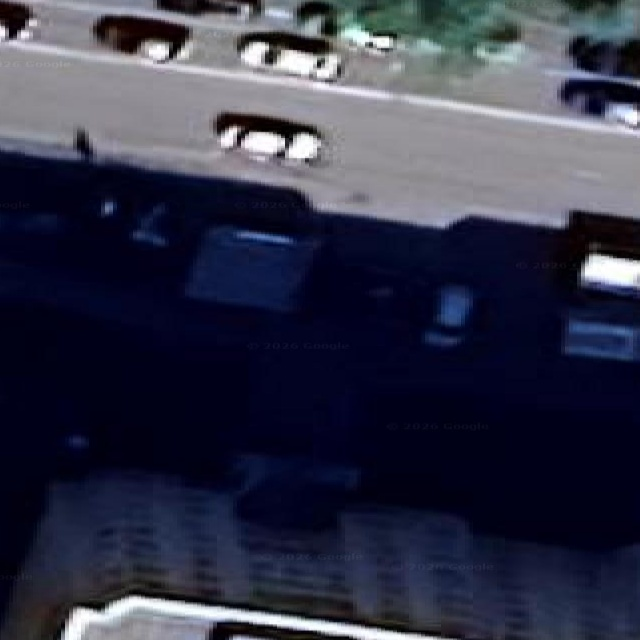car: (62, 167, 196, 278), (75, 179, 180, 247), (213, 112, 322, 163), (236, 31, 340, 80), (94, 16, 190, 62), (559, 77, 639, 126), (75, 179, 136, 243), (423, 284, 473, 347), (579, 247, 639, 296), (566, 35, 639, 75), (340, 0, 395, 52), (206, 620, 355, 639), (557, 79, 616, 115), (128, 201, 171, 247), (156, 0, 260, 18), (566, 35, 615, 71), (340, 24, 395, 52), (296, 0, 339, 35), (0, 2, 36, 40), (232, 228, 293, 243), (616, 37, 639, 75), (604, 104, 639, 127), (564, 35, 588, 64), (75, 128, 94, 159), (96, 196, 121, 219), (64, 432, 88, 452)
